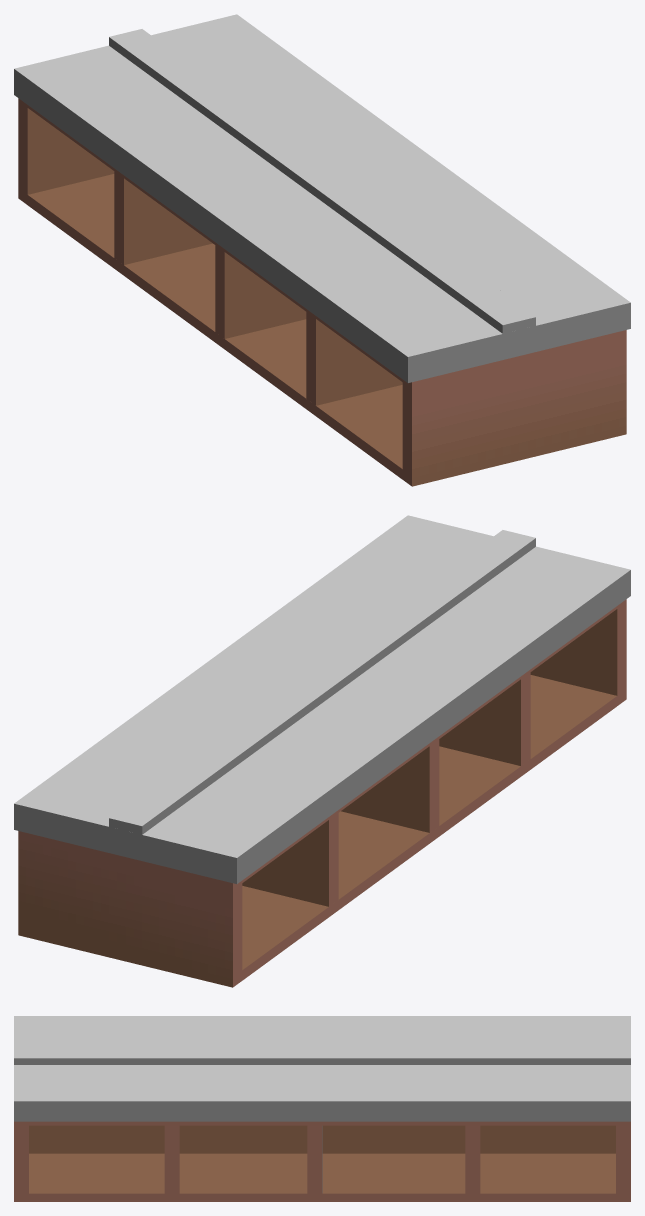
Rendered from Mail Countertop.gltf.
The picture shows the model from 3 angles, top to bottom: view 1: azimuth 30°, elevation 25°; view 2: azimuth 150°, elevation 25°; view 3: azimuth 270°, elevation 25°; orthographic projection. The views are drawn at different scales.
Visible parts, largest first — view 1: cube (×10); view 2: cube (×10); view 3: cube (×11).
Boxes of the visible parts, box(x1,y1,x2,y2) form: cube (×10): box(14, 14, 630, 486); cube (×10): box(14, 515, 630, 987); cube (×11): box(14, 1016, 630, 1201).
Size of the model in its own units: 0.4189 by 0.2501 by 1.28.
Materials: 1 (1 with a texture image).
